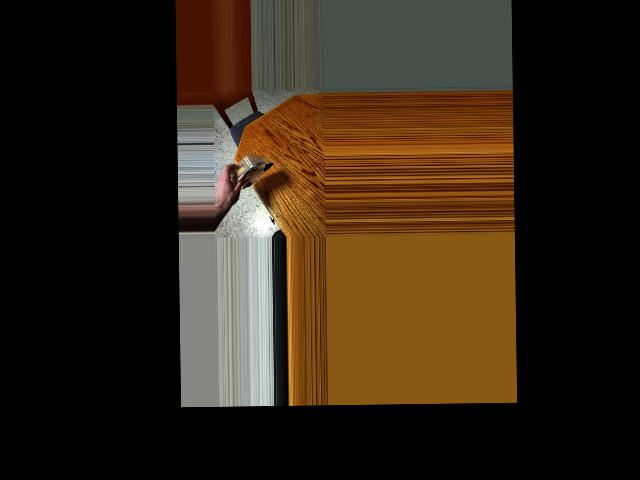cheese: (228, 144, 268, 195)
